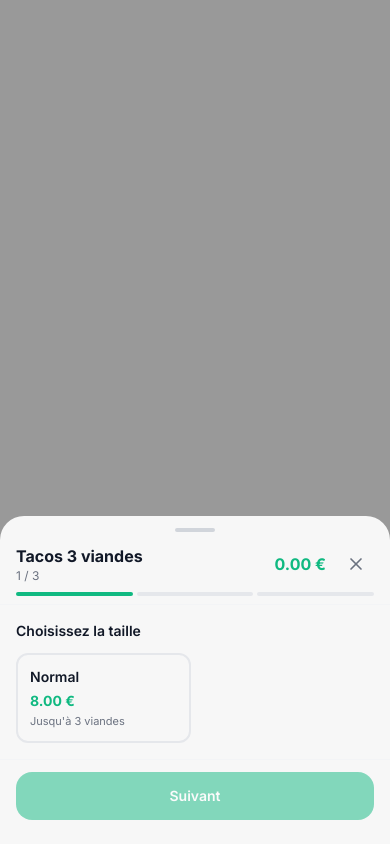
customer meat counts and their canonical displayed prices › keeps three meats mandatory for a product explicitly named three meats
Click the button "Normal 8.00 € Jusqu'à 3 viandes" at (104, 698), box [16,652,191,743]
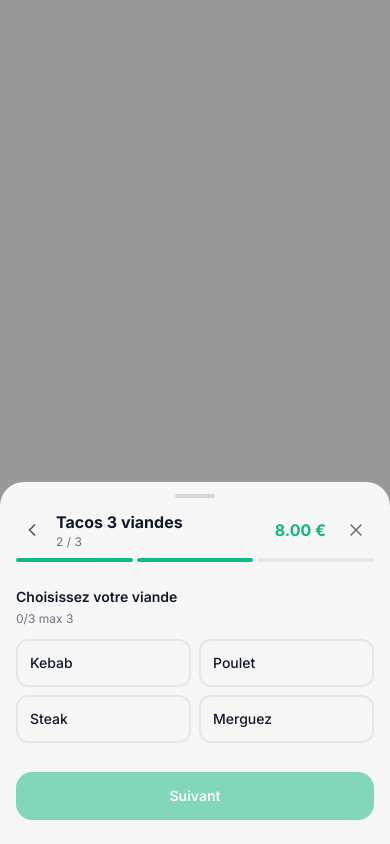
Click the button "Kebab" at (104, 663), box [16,639,191,687]
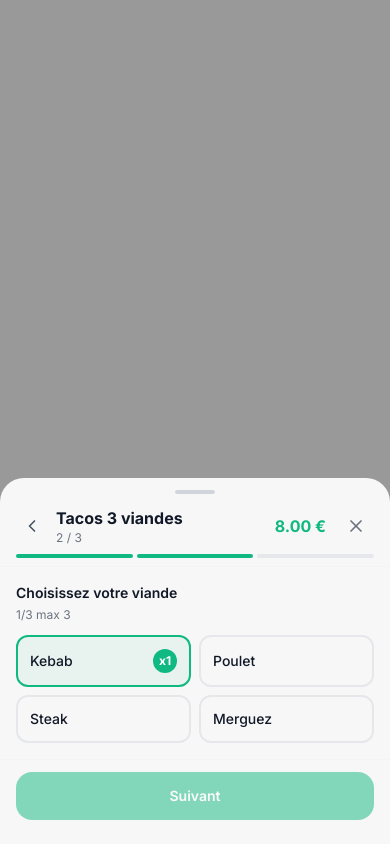
Click the button "Poulet" at (286, 661), box [199,635,374,687]
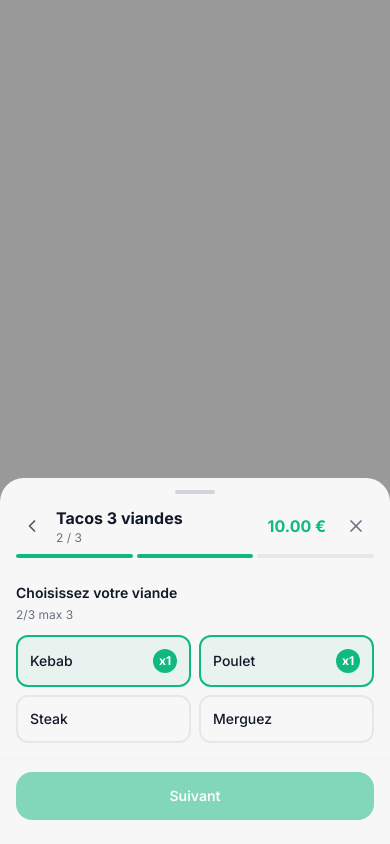
Expected: the button with test id "customizer-next" is disabled, [16,772,374,820]
Click the button "Steak" at (104, 719), box [16,695,191,743]
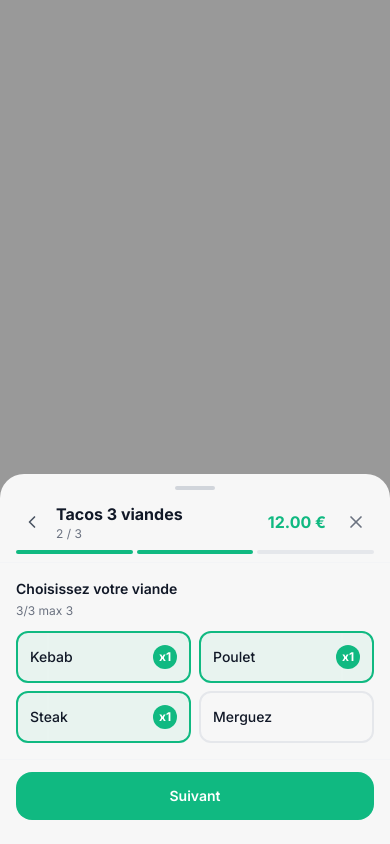
Now the button with test id "customizer-next" is enabled, box [16,772,374,820]
